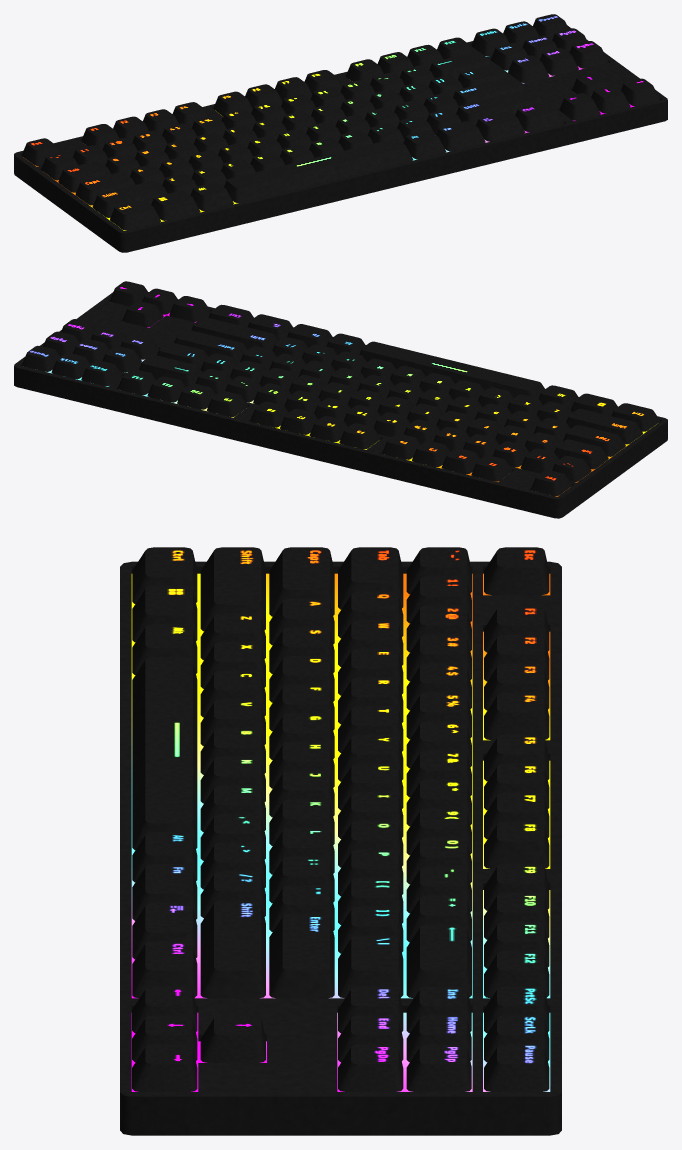
Rendered from keyboard.glb.
The picture shows the model from 3 angles, top to bottom: view 1: azimuth 30°, elevation 25°; view 2: azimuth 150°, elevation 25°; view 3: azimuth 270°, elevation 25°; orthographic projection. The views are drawn at different scales.
Visible parts, largest first — view 1: Object_2; view 2: Object_2; view 3: Object_2.
Boxes of the visible parts, x1,y1,x2,y2 form: Object_2: (14,14,667,252); Object_2: (14,281,667,518); Object_2: (120,547,561,1135).
Bounding box in the file's own units: 0.3547 × 0.0192 × 0.1238.
Materials: 1 (1 with a texture image).
